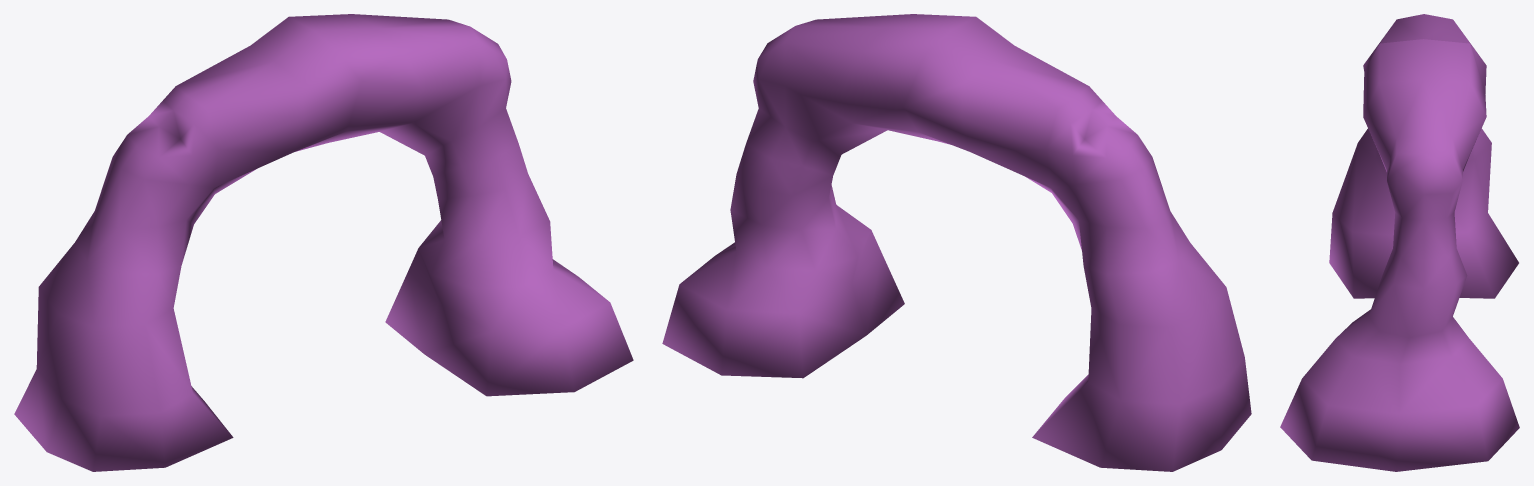
File: ReefCoral_TX.fbx
3 views of the same model, side by side, from view 1: azimuth 30°, elevation 25°; view 2: azimuth 150°, elevation 25°; view 3: azimuth 270°, elevation 25° (orthographic). The views are drawn at different scales.
Parts seen in each view (by area): view 1: CoralReef; view 2: CoralReef; view 3: CoralReef.
Part boxes in pixels (x1,y1,x2,y2): CoralReef: (14, 14, 633, 471); CoralReef: (662, 14, 1251, 471); CoralReef: (1280, 14, 1519, 471).
Size of the model in its own units: 54.3 by 34.63 by 23.69.
